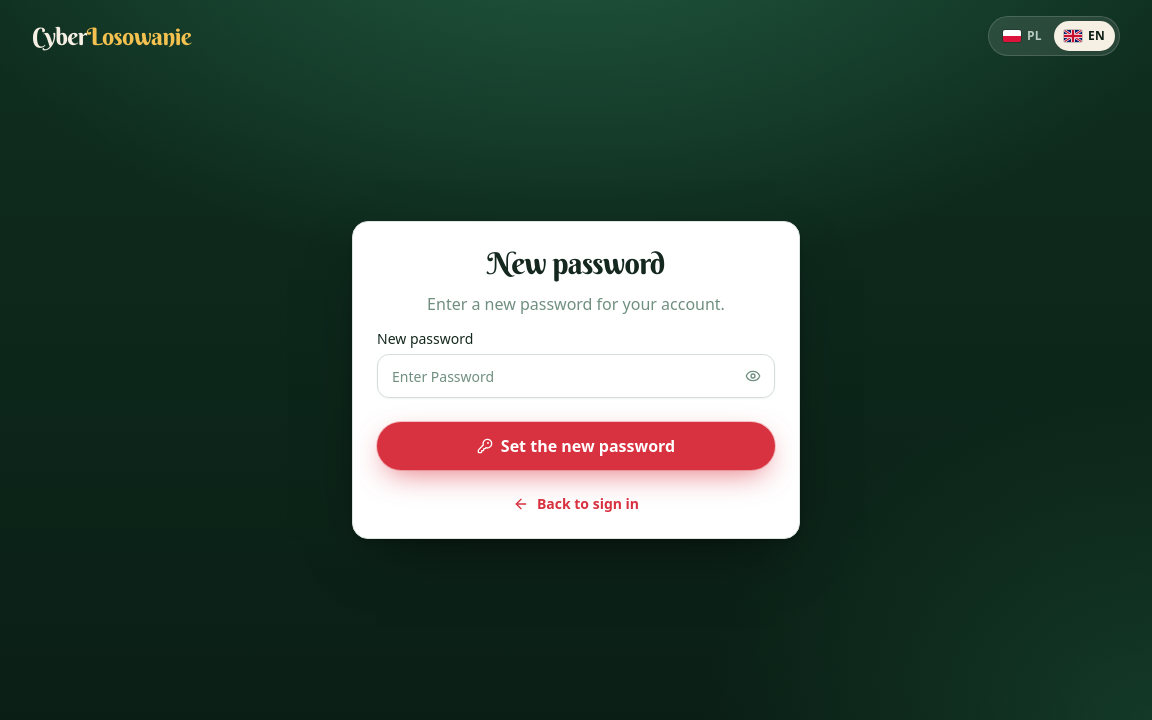
Test: ResetPassword › offers a new link when the link expired or was used
The width and height of the screenshot is (1152, 720).
Type "NoweHaslo1" into the password field labelled "New password". click: (576, 376)
box: [377,354,775,398]
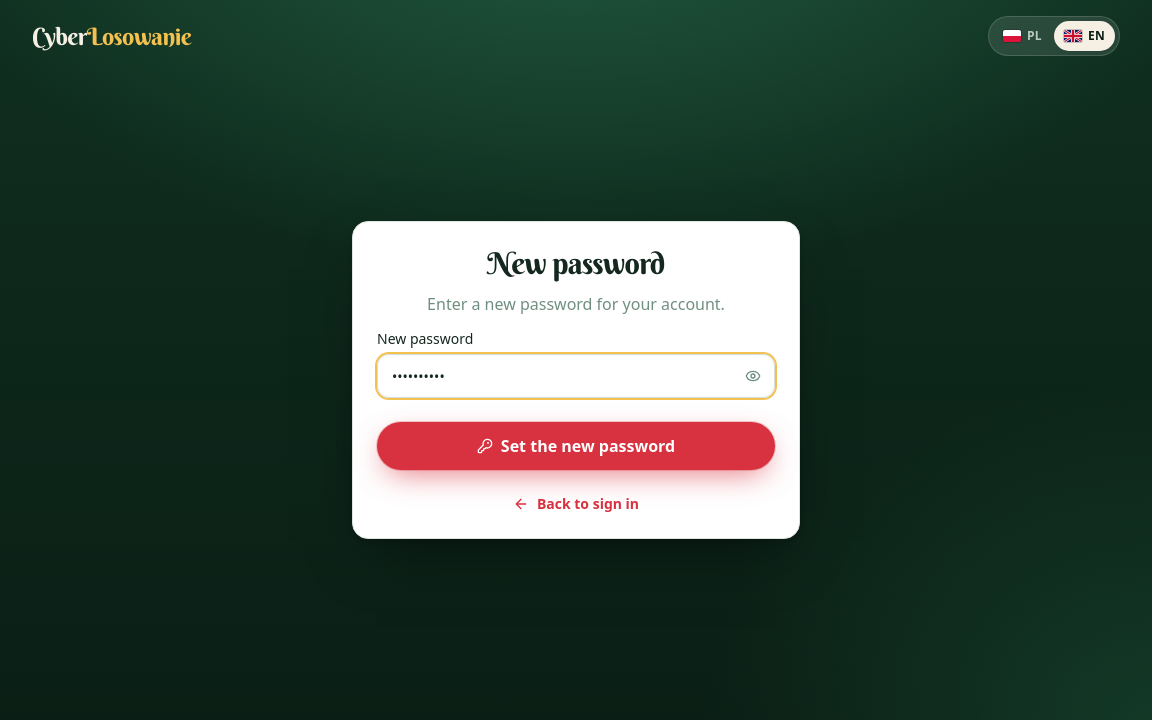
Click the button "Set the new password". click: (576, 446)
box: [377,422,775,470]
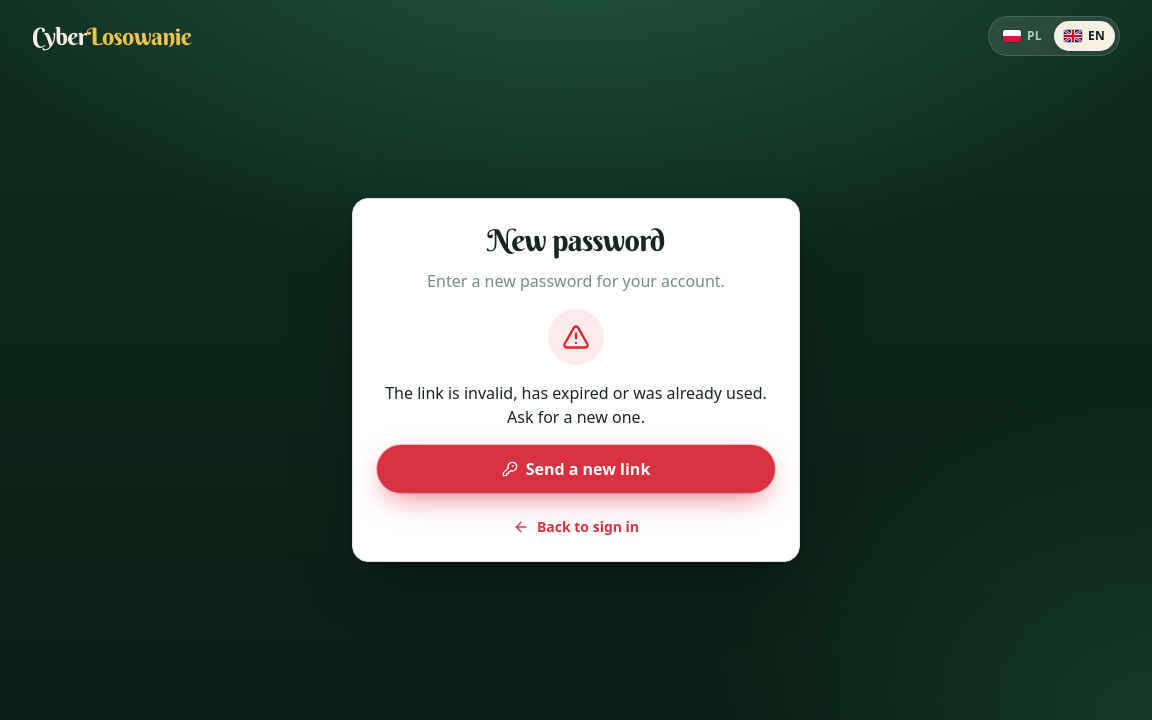
Check: the message shows "already used", box [385,382,767,428]
Check: the button "Send a new link" is shown, box [377,445,775,493]
